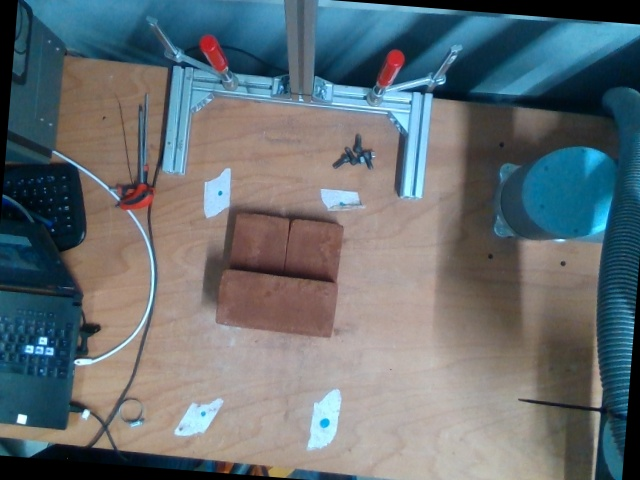brick: (216, 271, 335, 338)
